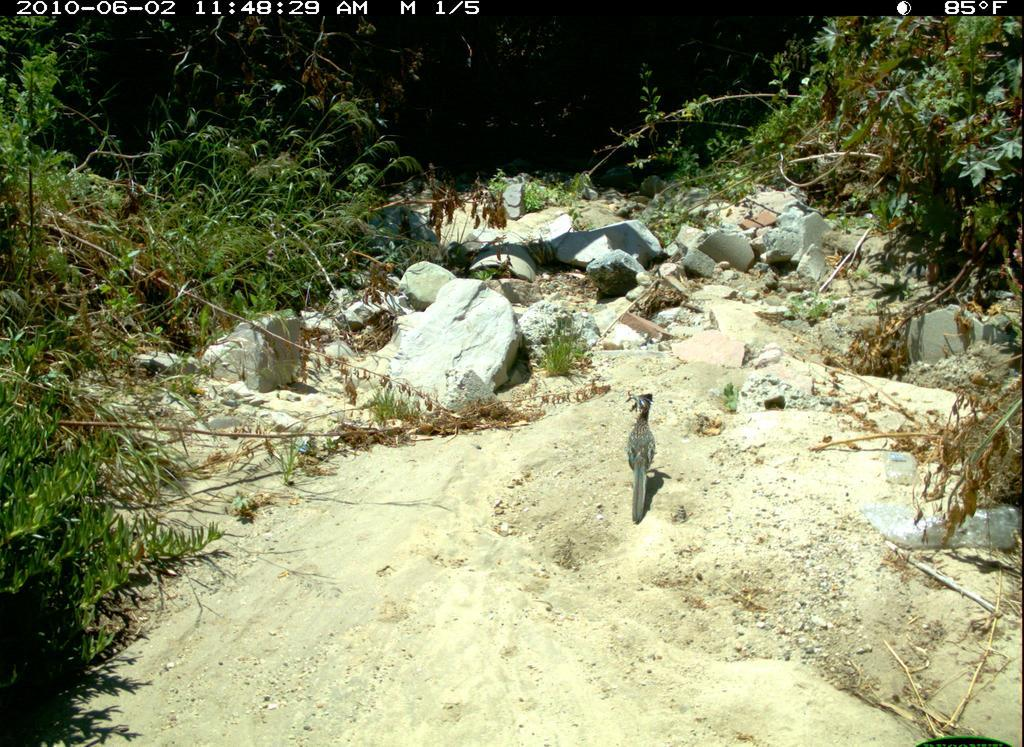bird: (621, 396, 660, 528)
